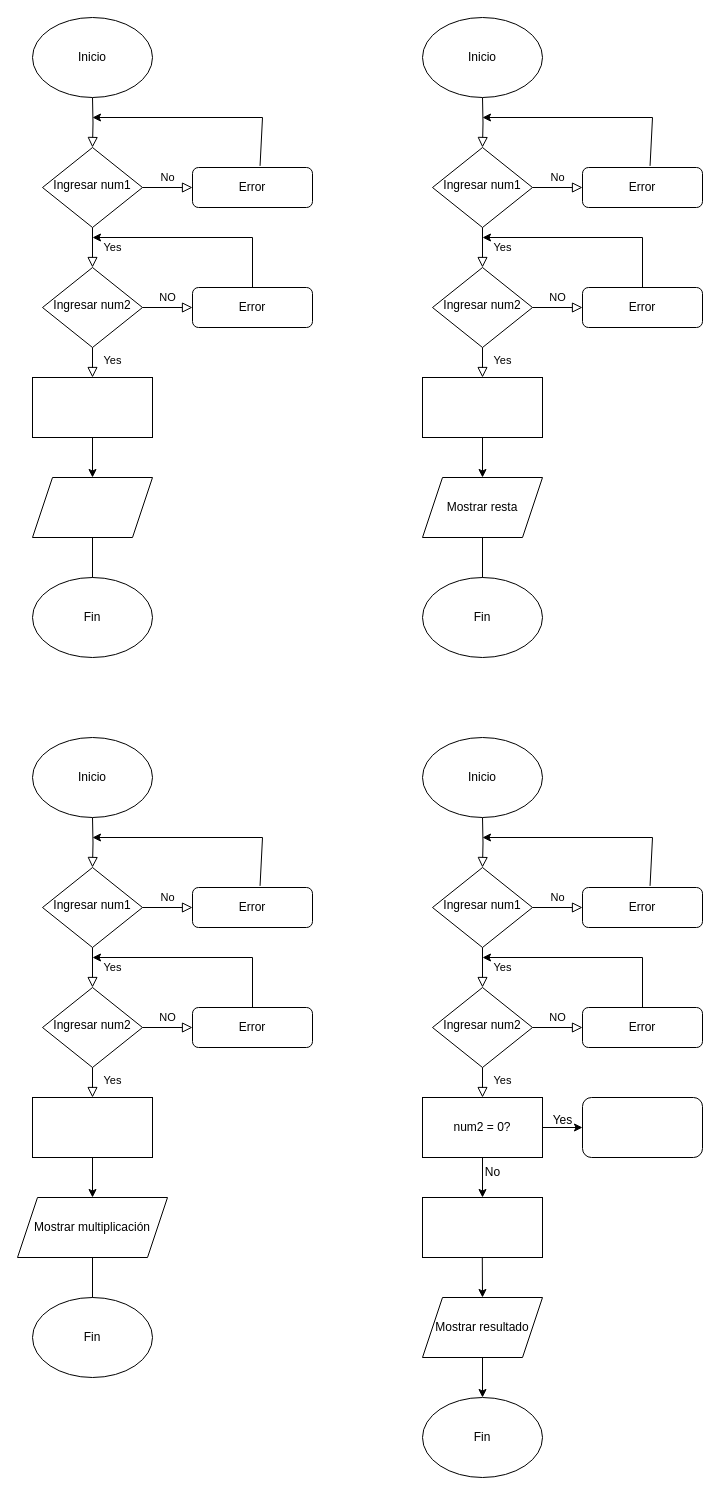
The diagram is 720 pixels wide and 1495 high, and some of its shapes have lost their labels. Each missing label, with the centre of its shape:
"Mostrar suma" goes at point 92,507.
"No se puede dividir por cero" goes at point 642,1127.
"num1*num2" goes at point 92,1127.
"num1+num2" goes at point 92,407.
"num1-num2" goes at point 482,407.
"num1/num2" goes at point 482,1227.
